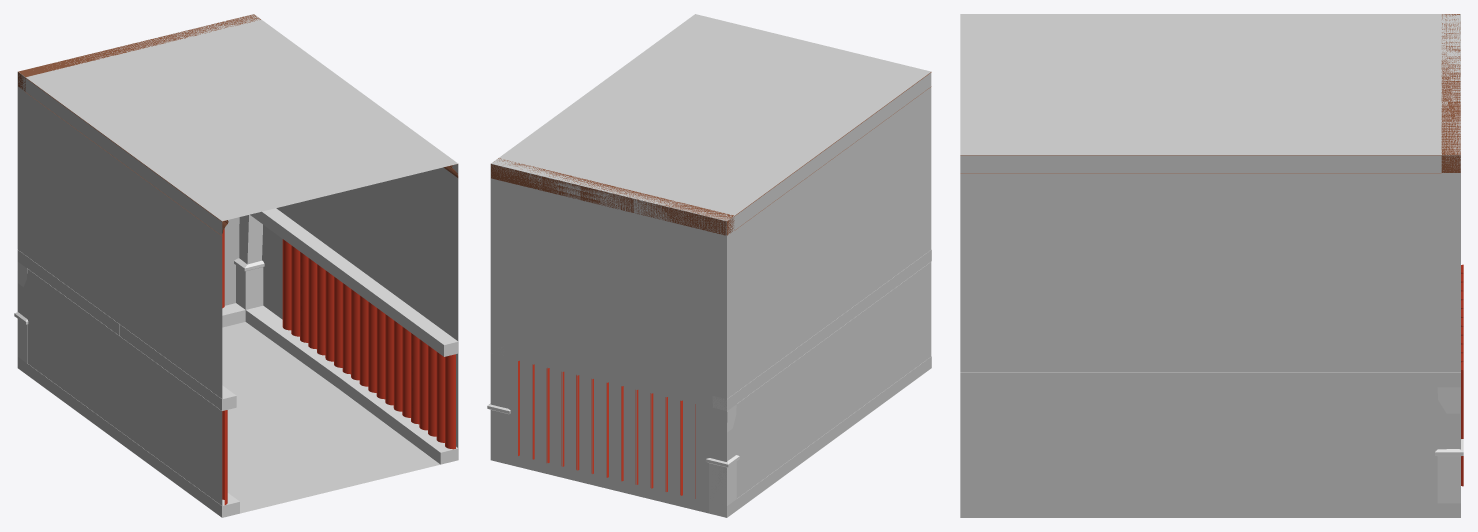
File: DeadEnd.fbx
3 renders of one model, left to right at view 1: azimuth 30°, elevation 25°; view 2: azimuth 150°, elevation 25°; view 3: azimuth 270°, elevation 25°, orthographic. The views are drawn at different scales.
Parts seen in each view (by area): view 1: DeadEnd; view 2: DeadEnd; view 3: DeadEnd.
Boxes of the visible parts, x1,y1,x2,y2 form: DeadEnd: [14, 14, 458, 517]; DeadEnd: [487, 14, 931, 517]; DeadEnd: [960, 14, 1463, 517].
Bounding box in the file's own units: 2.04 × 2.4 × 3.02.
